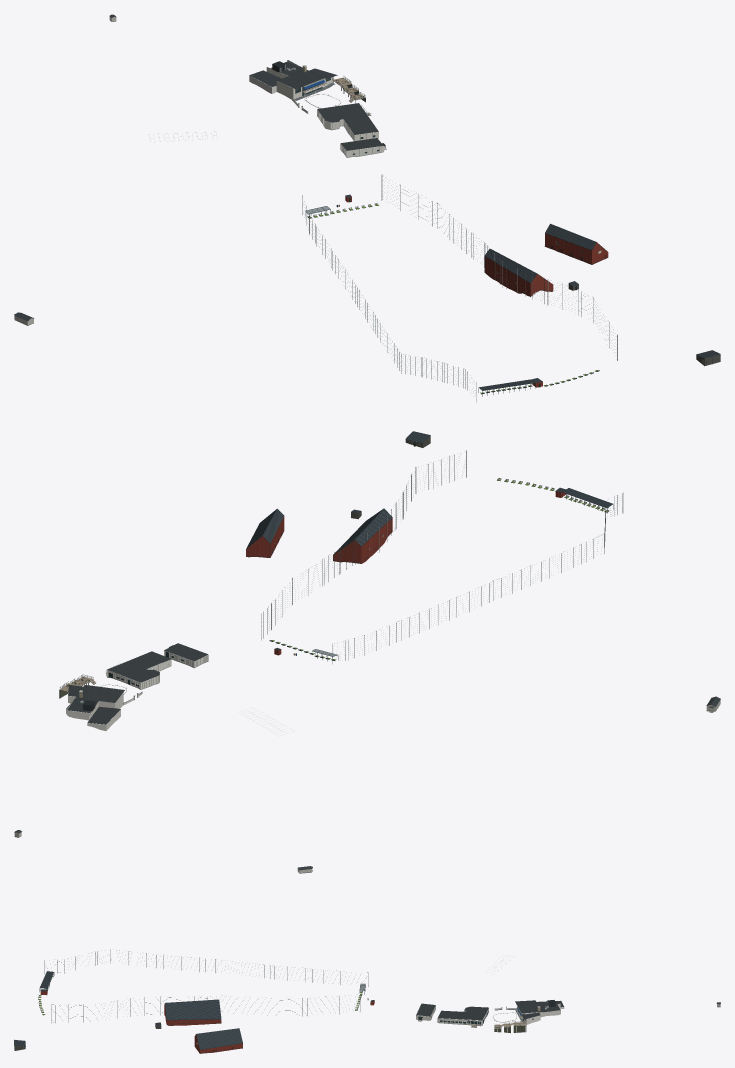
3 views of the same model, one above another, from view 1: azimuth 30°, elevation 25°; view 2: azimuth 150°, elevation 25°; view 3: azimuth 270°, elevation 25° (orthographic). The views are drawn at different scales.
Parts seen in each view (by area): view 1: lidingo_range-west-barn.001_asset LID MODEL | 893b2e_0.8_0_1, lidingo_clubhouse-restaurant.001_asset LID MODEL | 343b3e_0., lidingo_clubhouse-pavilion.001_asset LID MODEL | 343b3e_0.8_, lidingo_range-east-barn.001_asset LID MODEL | 893b2e_0.8_0_1, lidingo_clubhouse-restaurant.001_asset LID MODEL | e6e5dd_0.; view 2: lidingo_clubhouse-restaurant.001_asset LID MODEL | 343b3e_0., lidingo_range-west-barn.001_asset LID MODEL | 893b2e_0.8_0_1, lidingo_clubhouse-pavilion.001_asset LID MODEL | 343b3e_0.8_, lidingo_range-west-barn.001_asset LID MODEL | 303a40_0.8_0_1, lidingo_clubhouse-restaurant.001_asset LID MODEL | e6e5dd_0.; view 3: lidingo_range-west-barn.001_asset LID MODEL | 303a40_0.8_0_1, lidingo_range-east-barn.001_asset LID MODEL | 303a40_0.8_0_1, lidingo_clubhouse-restaurant.001_asset LID MODEL | 343b3e_0., lidingo_clubhouse-pavilion.001_asset LID MODEL | 343b3e_0.8_, lidingo_range-west-barn.001_asset LID MODEL | 893b2e_0.8_0_1.
Boxes of the visible parts, left/top/right/bottom form: lidingo_range-west-barn.001_asset LID MODEL | 893b2e_0.8_0_1: left=485, top=256, right=553, bottom=296; lidingo_clubhouse-restaurant.001_asset LID MODEL | 343b3e_0.: left=250, top=60, right=336, bottom=89; lidingo_clubhouse-pavilion.001_asset LID MODEL | 343b3e_0.8_: left=317, top=103, right=378, bottom=134; lidingo_range-east-barn.001_asset LID MODEL | 893b2e_0.8_0_1: left=545, top=233, right=608, bottom=264; lidingo_clubhouse-restaurant.001_asset LID MODEL | e6e5dd_0.: left=249, top=60, right=333, bottom=99; lidingo_clubhouse-restaurant.001_asset LID MODEL | 343b3e_0.: left=66, top=685, right=124, bottom=724; lidingo_range-west-barn.001_asset LID MODEL | 893b2e_0.8_0_1: left=333, top=518, right=392, bottom=563; lidingo_clubhouse-pavilion.001_asset LID MODEL | 343b3e_0.8_: left=107, top=651, right=170, bottom=682; lidingo_range-west-barn.001_asset LID MODEL | 303a40_0.8_0_1: left=334, top=508, right=392, bottom=553; lidingo_clubhouse-restaurant.001_asset LID MODEL | e6e5dd_0.: left=66, top=692, right=123, bottom=730; lidingo_range-west-barn.001_asset LID MODEL | 303a40_0.8_0_1: left=165, top=999, right=221, bottom=1019; lidingo_range-east-barn.001_asset LID MODEL | 303a40_0.8_0_1: left=196, top=1028, right=242, bottom=1049; lidingo_clubhouse-restaurant.001_asset LID MODEL | 343b3e_0.: left=515, top=1000, right=563, bottom=1019; lidingo_clubhouse-pavilion.001_asset LID MODEL | 343b3e_0.8_: left=438, top=1006, right=488, bottom=1020; lidingo_range-west-barn.001_asset LID MODEL | 893b2e_0.8_0_1: left=164, top=1004, right=221, bottom=1025.
Bounding box in the file's own units: 308 × 22.87 × 512.
